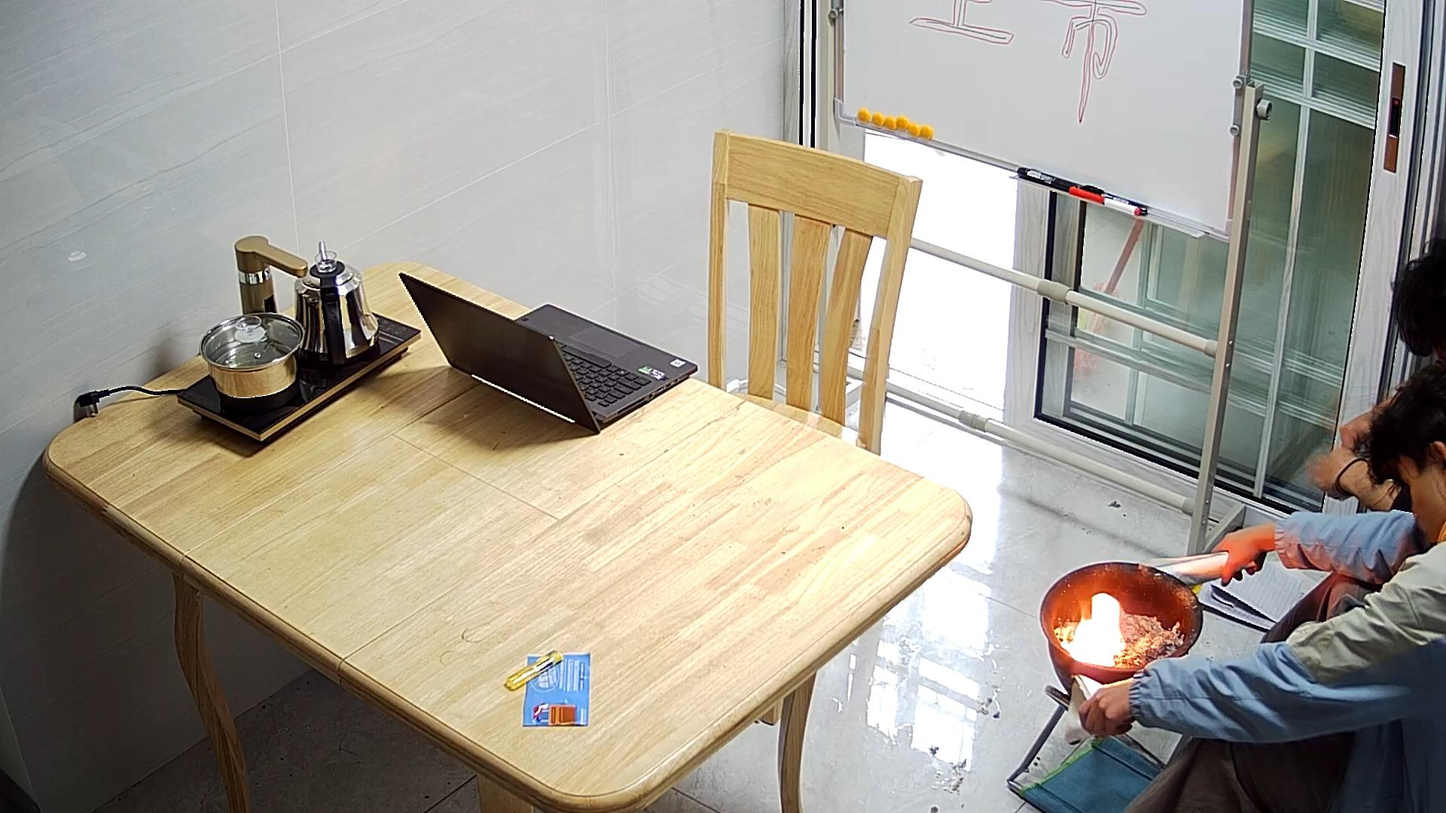fire: (1061, 595, 1124, 666)
